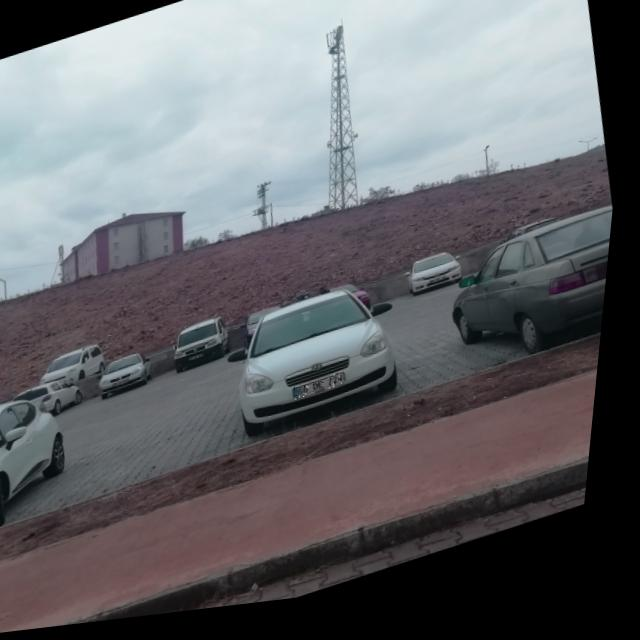license_plate: (300, 380, 355, 408)
